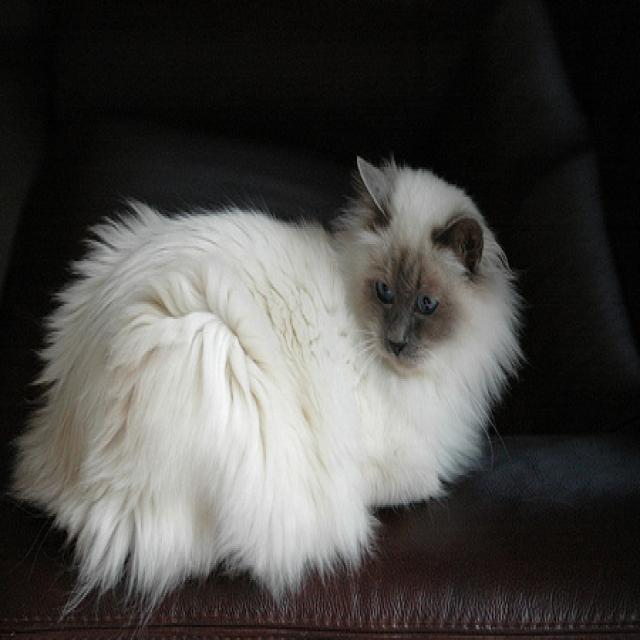Birman: (11, 150, 525, 588)
